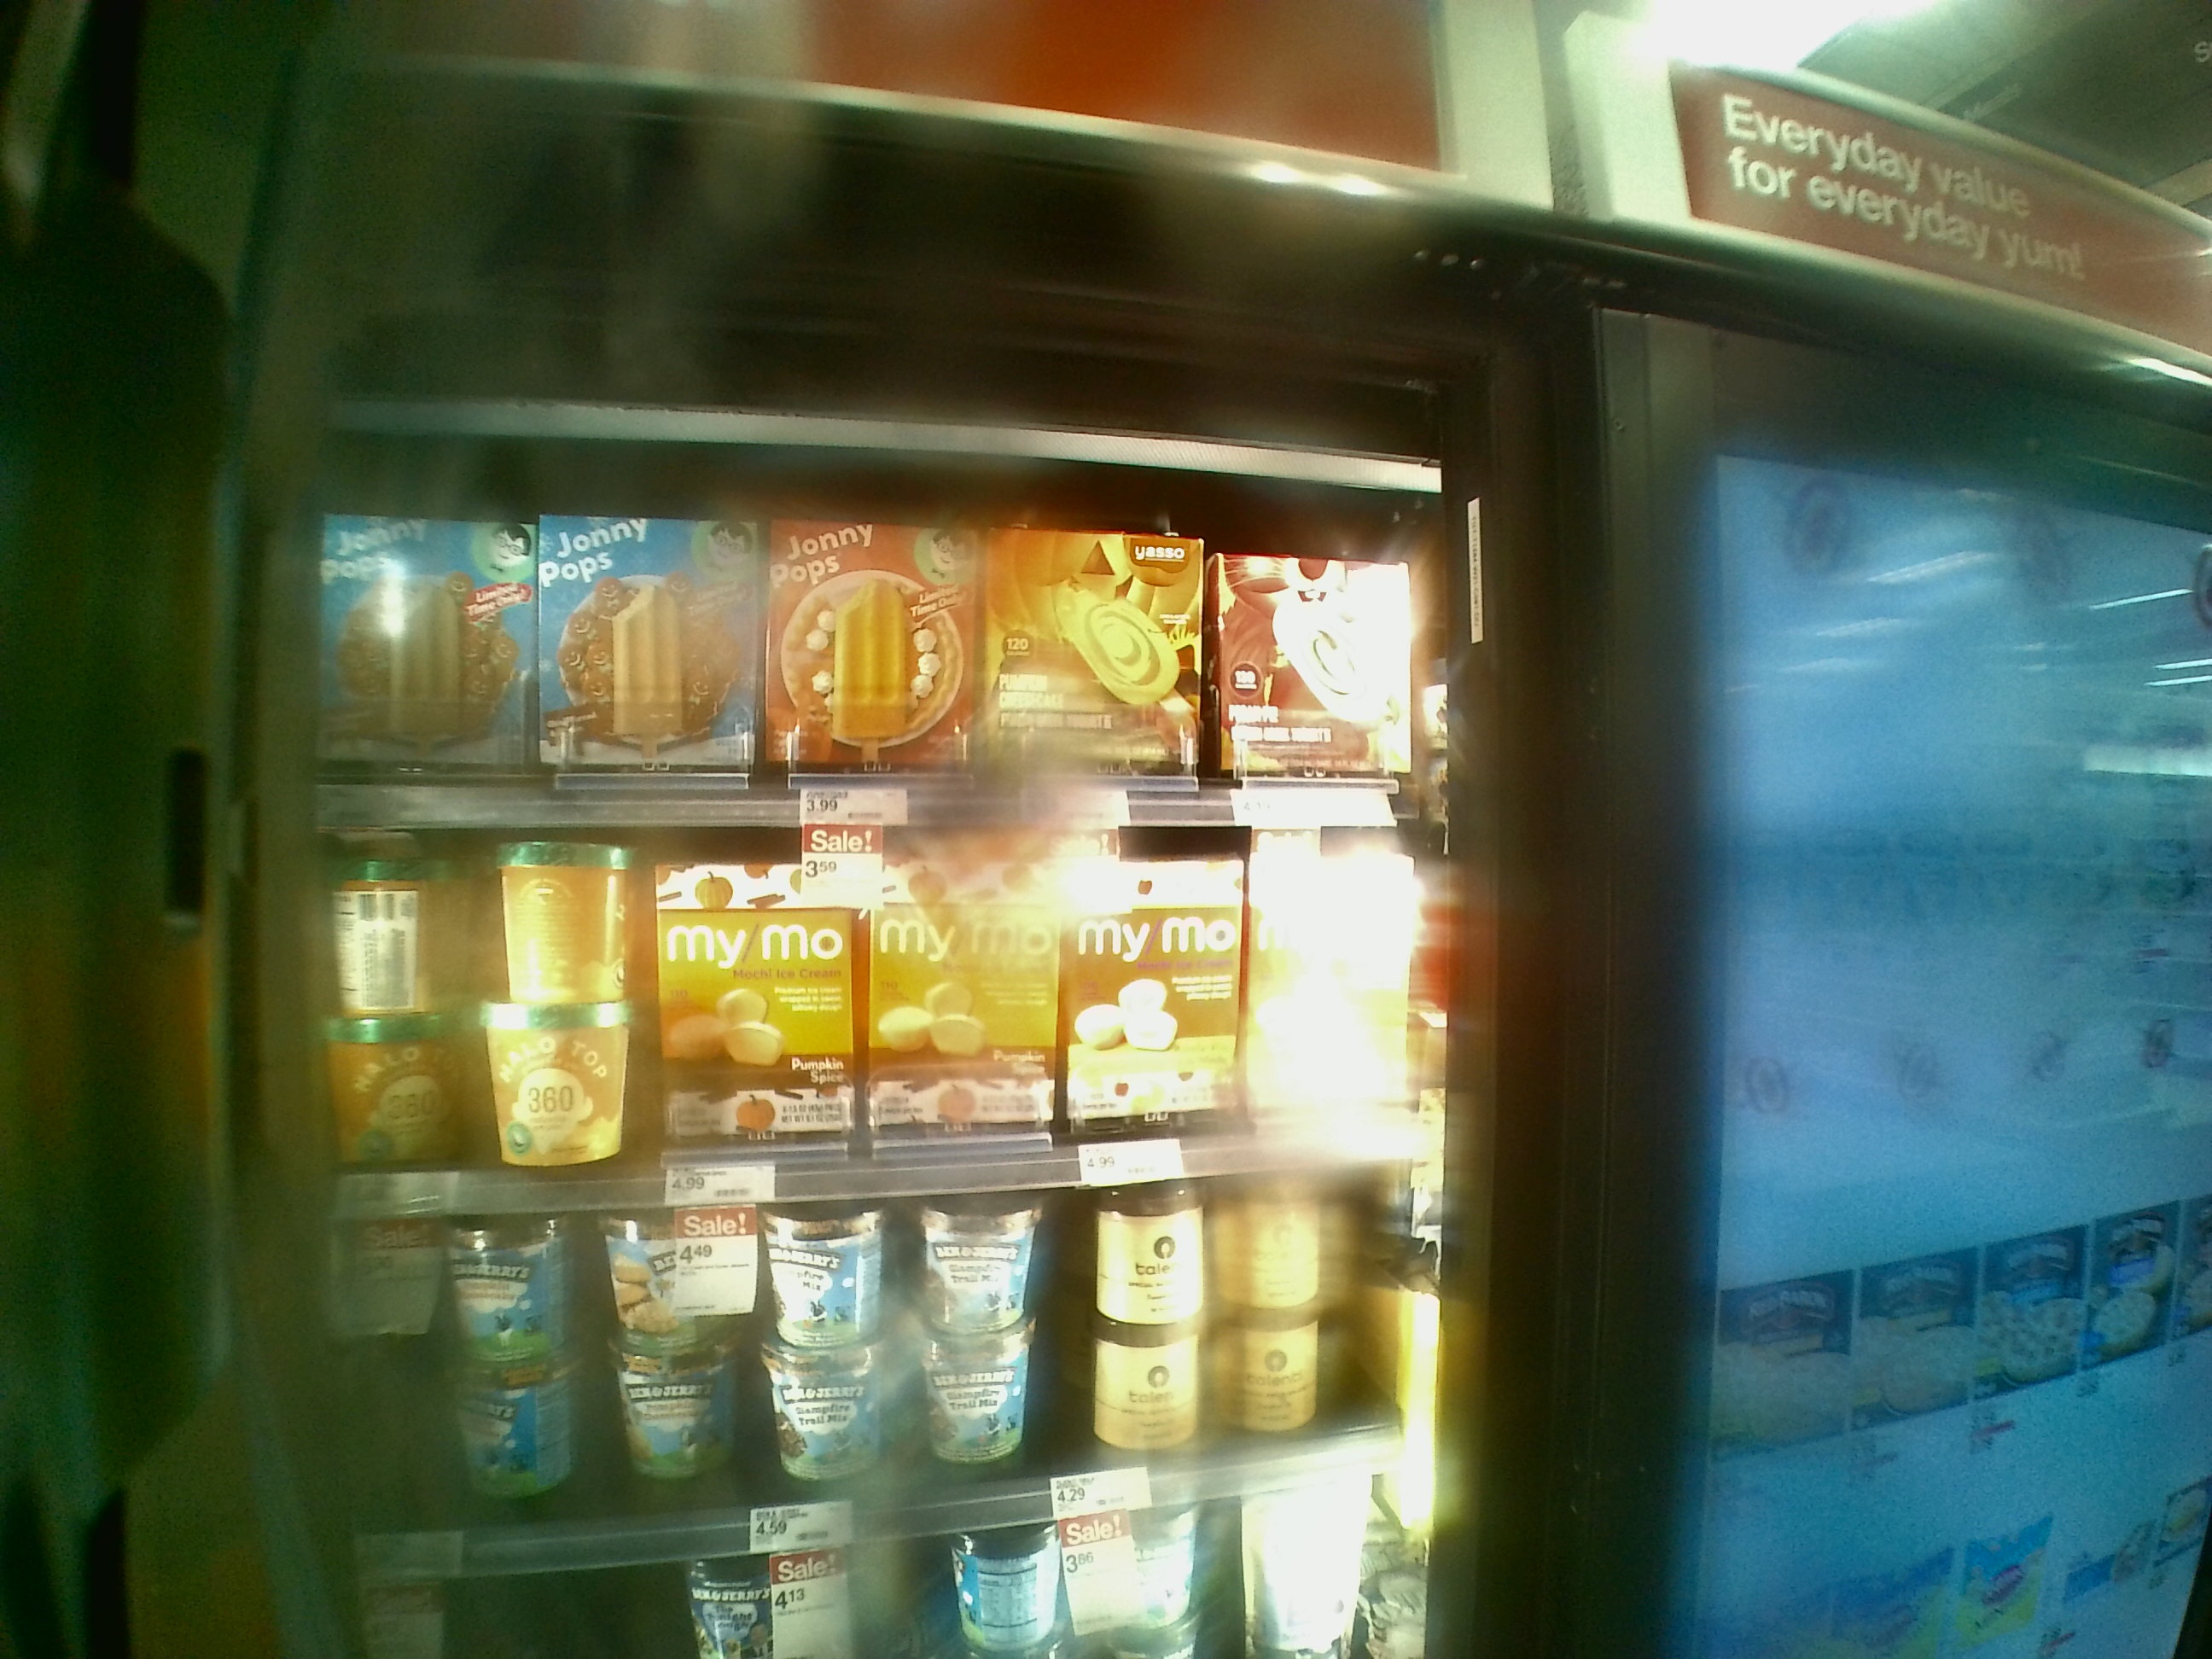shelf: (265, 427, 1465, 826), (268, 821, 1439, 1185), (280, 1202, 1413, 1506)
